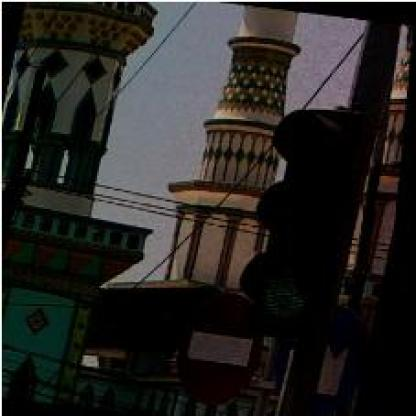green: (234, 99, 363, 337)
